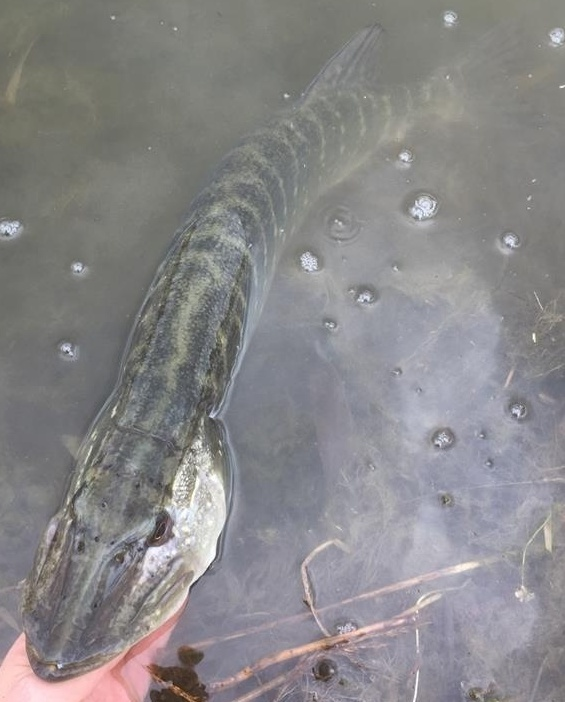Esox lucius: (20, 20, 545, 682)
